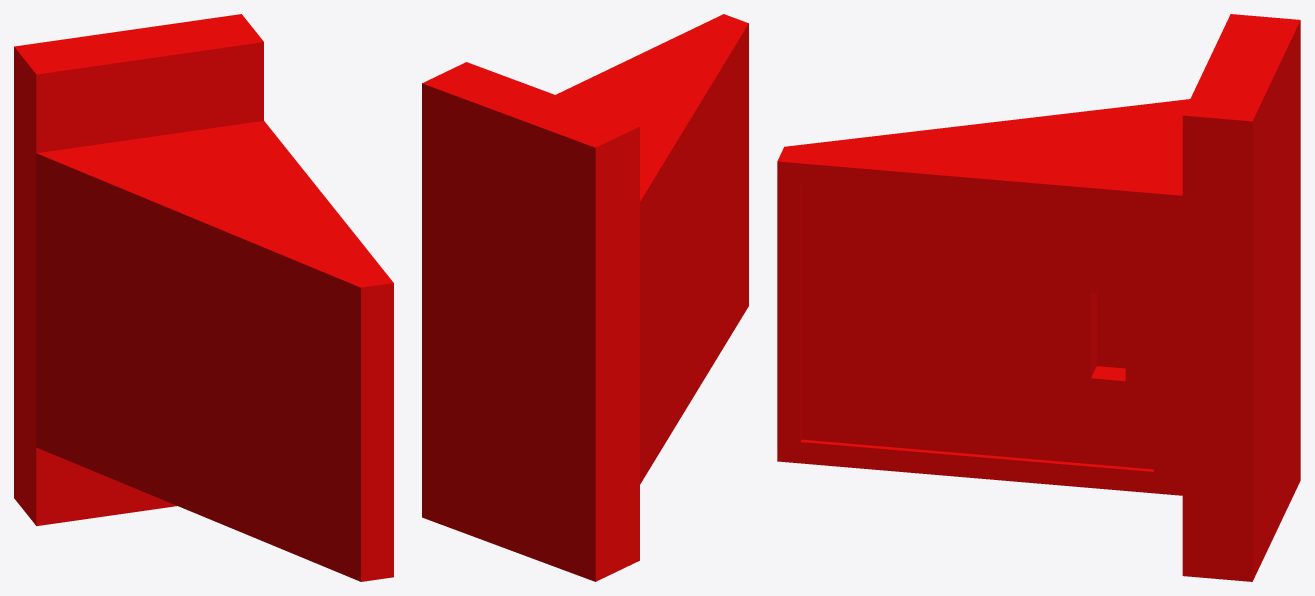
The model's file is gripper_b.obj.
3 renders of one model, left to right at view 1: azimuth 30°, elevation 25°; view 2: azimuth 150°, elevation 25°; view 3: azimuth 270°, elevation 25°, orthographic. The views are drawn at different scales.
Visible parts, largest first — view 1: gripper_b; view 2: gripper_b; view 3: gripper_b.
Part boxes in pixels (x1,y1,x2,y2): gripper_b: (14, 14, 393, 581); gripper_b: (422, 14, 748, 581); gripper_b: (777, 14, 1300, 581).
Bounding box in the file's own units: 21.53 × 43.03 × 44.33.
